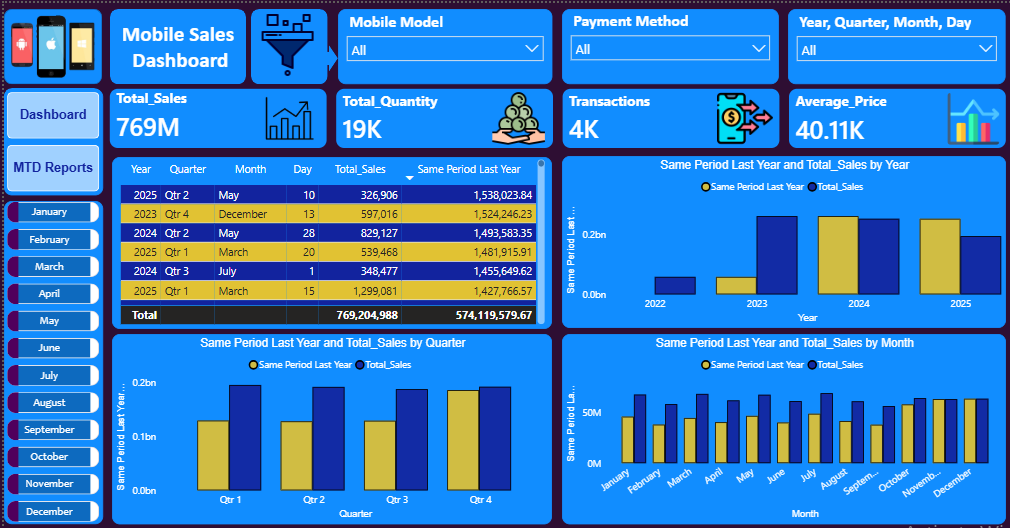

The page's visual inventory and layout, read from the dashboard file:
{"tool":"powerbi","page":{"name":"Same Period Last Year","canvas":[1280,720],"ordinal":2},"visuals":[{"type":"shape","box":[0,7.5,122.5,94.2],"z":0},{"type":"image","box":[5,12.5,110,83.8],"z":1000},{"type":"shape","box":[0,106.7,122.5,132.5],"z":2000},{"type":"cardVisual","fields":{"Data":["Sales_Data.Total_Sales","Sales_Data.Total_Quantity","Sales_Data.Transactions","Sales_Data.Average_Price"]},"box":[106.7,81.3,1173.3,126.7],"z":3000},{"type":"slicer","fields":{"Values":["Sales_Data.Mobile Model"]},"box":[417.5,7.5,267.5,94.2],"z":4000},{"type":"slicer","fields":{"Values":["Custom_Calendar.Date.Variation.Date Hierarchy.Year","Custom_Calendar.Date.Variation.Date Hierarchy.Quarter","Custom_Calendar.Date.Variation.Date Hierarchy.Month","Custom_Calendar.Date.Variation.Date Hierarchy.Day"]},"box":[980,7.5,272,93.8],"z":5000},{"type":"slicer","fields":{"Values":["Sales_Data.Payment Method"]},"box":[697,7.5,271,93.8],"z":6000},{"type":"shape","box":[309.2,7.5,95.8,94.2],"z":7000},{"type":"image","box":[302.5,12.5,103.8,80],"z":8000},{"type":"shape","box":[395,52.5,22.5,33.3],"z":9000},{"type":"shape","box":[132.5,7.5,170,94.2],"z":10000},{"type":"textbox","box":[135,17.5,165,75],"z":11000},{"type":"advancedSlicerVisual","fields":{"Values":["Custom_Calendar.Date.Variation.Date Hierarchy.Month"]},"box":[0,247.5,123.8,403.8],"z":12000},{"type":"clusteredColumnChart","fields":{"Category":["Custom_Calendar.Date.Variation.Date Hierarchy.Year","Custom_Calendar.Date.Variation.Date Hierarchy.Quarter","Custom_Calendar.Date.Variation.Date Hierarchy.Month"],"Y":["Sales_Data.Same Period Last Year","Sales_Data.Total_Sales"]},"box":[697.5,191,555,215],"z":13000},{"type":"tableEx","fields":{"Values":["Custom_Calendar.Date.Variation.Date Hierarchy.Year","Custom_Calendar.Date.Variation.Date Hierarchy.Quarter","Custom_Calendar.Date.Variation.Date Hierarchy.Month","Custom_Calendar.Date.Variation.Date Hierarchy.Day","Sales_Data.Total_Sales","Sales_Data.Same Period Last Year"]},"box":[135,192,550,215],"z":14000},{"type":"clusteredColumnChart","fields":{"Category":["Custom_Calendar.Date.Variation.Date Hierarchy.Year","Custom_Calendar.Date.Variation.Date Hierarchy.Quarter","Custom_Calendar.Date.Variation.Date Hierarchy.Month"],"Y":["Sales_Data.Same Period Last Year","Sales_Data.Total_Sales"]},"box":[135,413.8,550,237.5],"z":14001},{"type":"clusteredColumnChart","fields":{"Category":["Custom_Calendar.Date.Variation.Date Hierarchy.Year","Custom_Calendar.Date.Variation.Date Hierarchy.Quarter","Custom_Calendar.Date.Variation.Date Hierarchy.Month"],"Y":["Sales_Data.Same Period Last Year","Sales_Data.Total_Sales"]},"box":[697.5,413.8,555,237.5],"z":14002},{"type":"pageNavigator","box":[0,107.5,123.8,132.5],"z":14003}]}

Visuals, with their boxes on the page's 1280x720 design canvas (x1, y1, x2, y2). These are canvas units, not pixel positions in the 1010x528 screenshot, which may show the page scaled, cropped or inside an application window:
shape: x1=0 y1=8 x2=122 y2=102
image: x1=5 y1=12 x2=115 y2=96
shape: x1=0 y1=107 x2=122 y2=239
cardVisual - Sales_Data.Total_Sales x Sales_Data.Total_Quantity: x1=107 y1=81 x2=1280 y2=208
slicer - Sales_Data.Mobile Model: x1=418 y1=8 x2=685 y2=102
slicer - Custom_Calendar.Date.Variation.Date Hierarchy.Year x Custom_Calendar.Date.Variation.Date Hierarchy.Quarter: x1=980 y1=8 x2=1252 y2=101
slicer - Sales_Data.Payment Method: x1=697 y1=8 x2=968 y2=101
shape: x1=309 y1=8 x2=405 y2=102
image: x1=302 y1=12 x2=406 y2=92
shape: x1=395 y1=52 x2=418 y2=86
shape: x1=132 y1=8 x2=302 y2=102
textbox: x1=135 y1=18 x2=300 y2=92
advancedSlicerVisual - Custom_Calendar.Date.Variation.Date Hierarchy.Month: x1=0 y1=248 x2=124 y2=651
clusteredColumnChart - Custom_Calendar.Date.Variation.Date Hierarchy.Year x Custom_Calendar.Date.Variation.Date Hierarchy.Quarter: x1=698 y1=191 x2=1252 y2=406
tableEx - Custom_Calendar.Date.Variation.Date Hierarchy.Year x Custom_Calendar.Date.Variation.Date Hierarchy.Quarter: x1=135 y1=192 x2=685 y2=407
clusteredColumnChart - Custom_Calendar.Date.Variation.Date Hierarchy.Year x Custom_Calendar.Date.Variation.Date Hierarchy.Quarter: x1=135 y1=414 x2=685 y2=651
clusteredColumnChart - Custom_Calendar.Date.Variation.Date Hierarchy.Year x Custom_Calendar.Date.Variation.Date Hierarchy.Quarter: x1=698 y1=414 x2=1252 y2=651
pageNavigator: x1=0 y1=108 x2=124 y2=240
